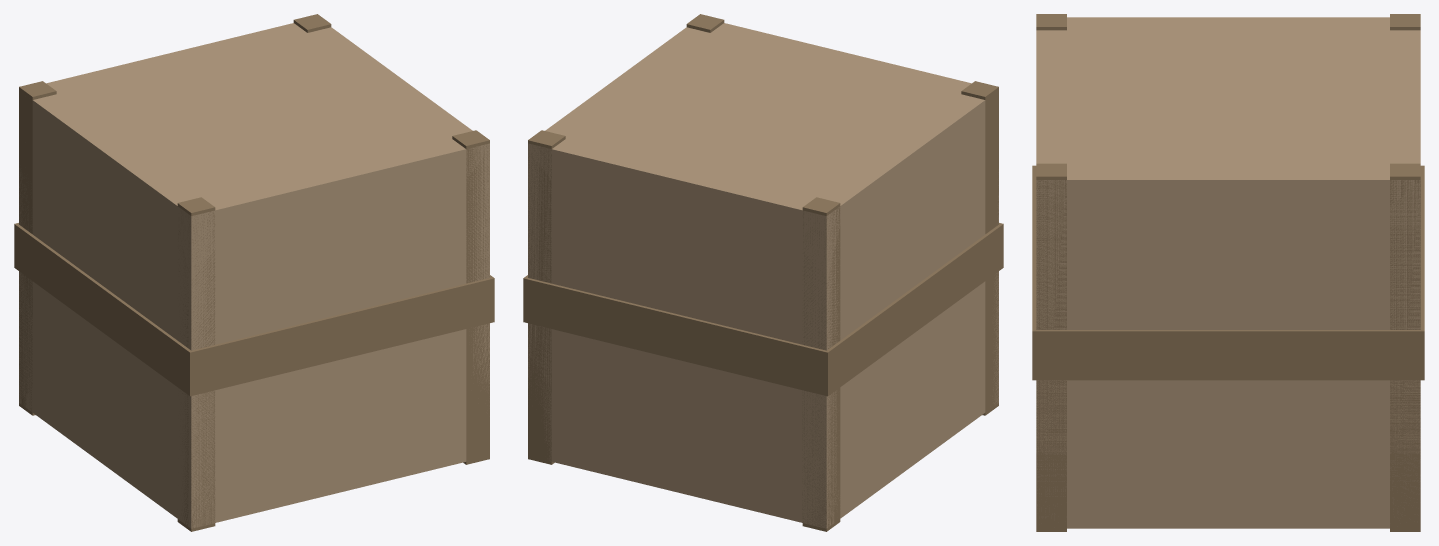
Rendered from Block_Crate.glb.
The picture shows the model from 3 angles, left to right: view 1: azimuth 30°, elevation 25°; view 2: azimuth 150°, elevation 25°; view 3: azimuth 270°, elevation 25°; orthographic projection. The views are drawn at different scales.
Visible parts, largest first — view 1: geometry_0; view 2: geometry_0; view 3: geometry_0.
Boxes of the visible parts, x1,y1,x2,y2 form: geometry_0: (14, 14, 494, 531); geometry_0: (523, 14, 1003, 531); geometry_0: (1032, 14, 1424, 531).
Size of the model in its own units: 1.02 by 1.02 by 1.02.
